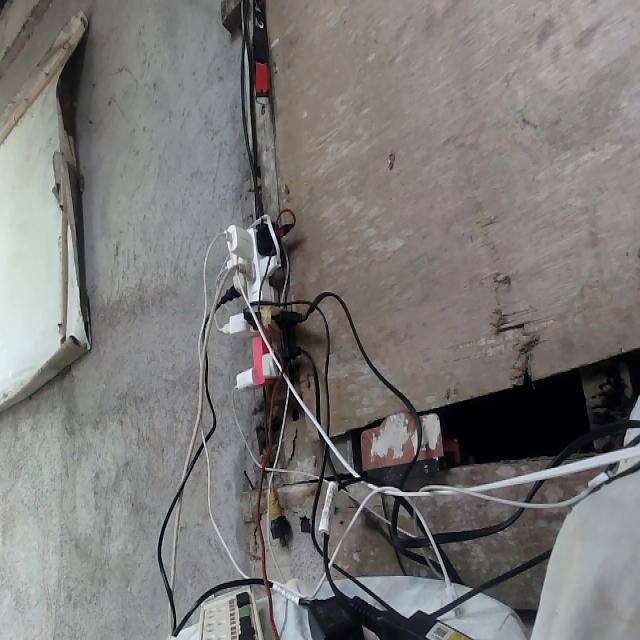-: (213, 204, 306, 395)
